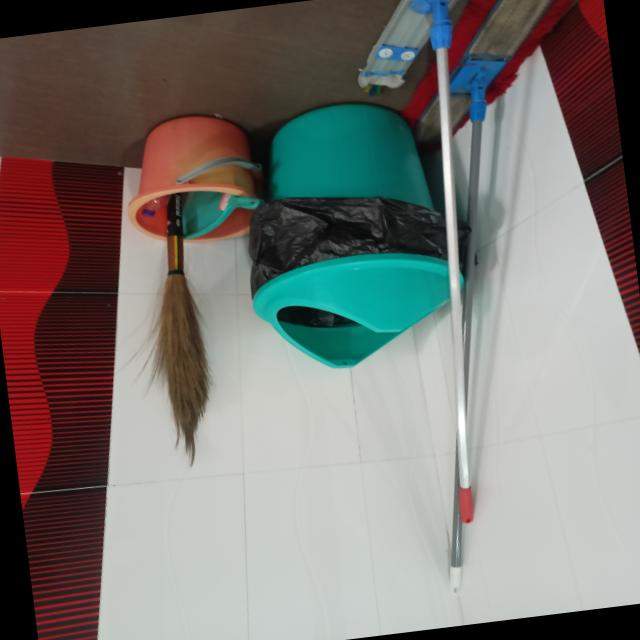plastic_box: (183, 93, 476, 369)
